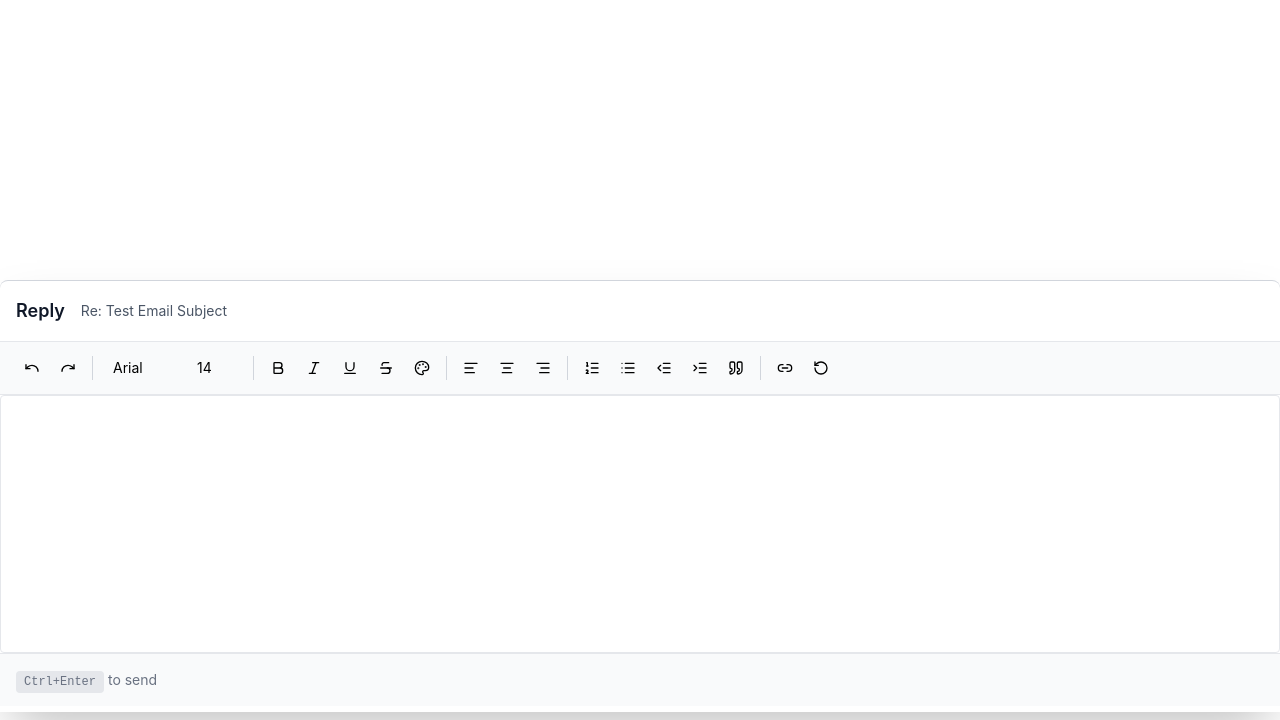
it: EmailComposer Component › Link Dialog › shows link input when link button is clicked
Click the button titled "Insert Link" at (785, 368), box [769,352,801,384]
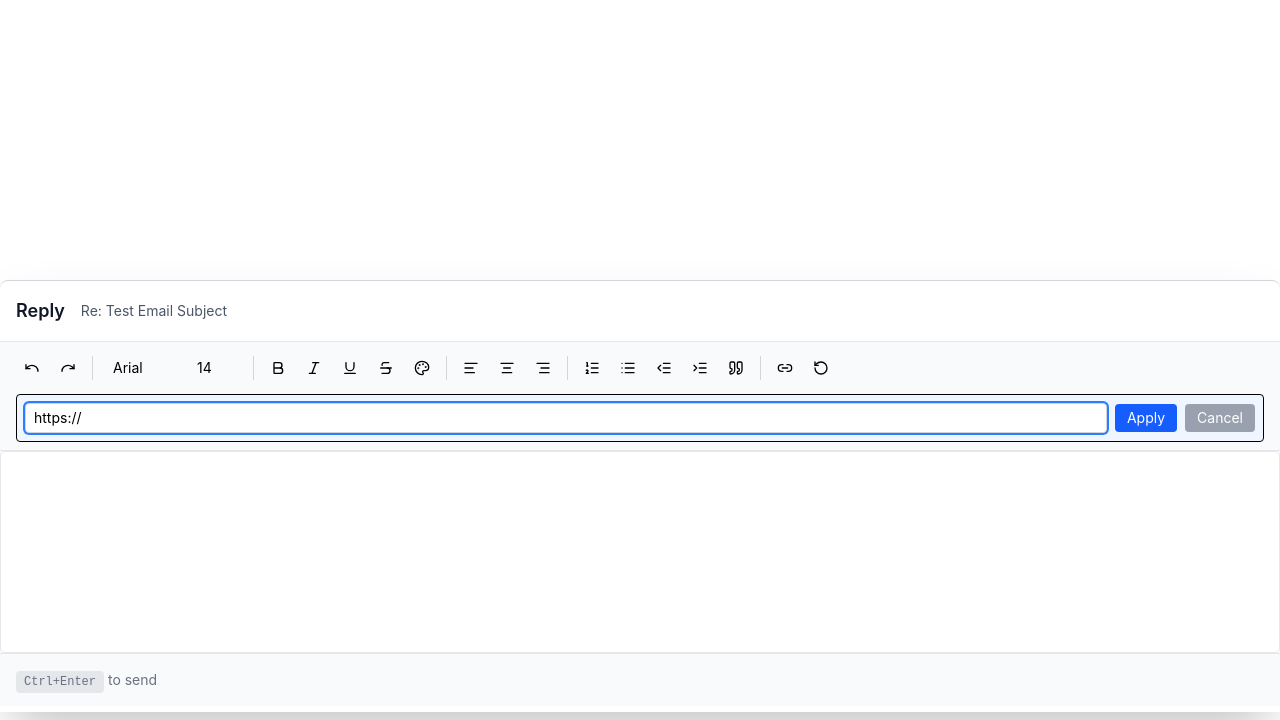
Check: the field with placeholder "Enter URL..." is shown, box [25,403,1107,433]
Check: the button "Apply" is shown, box [1115,404,1177,432]
